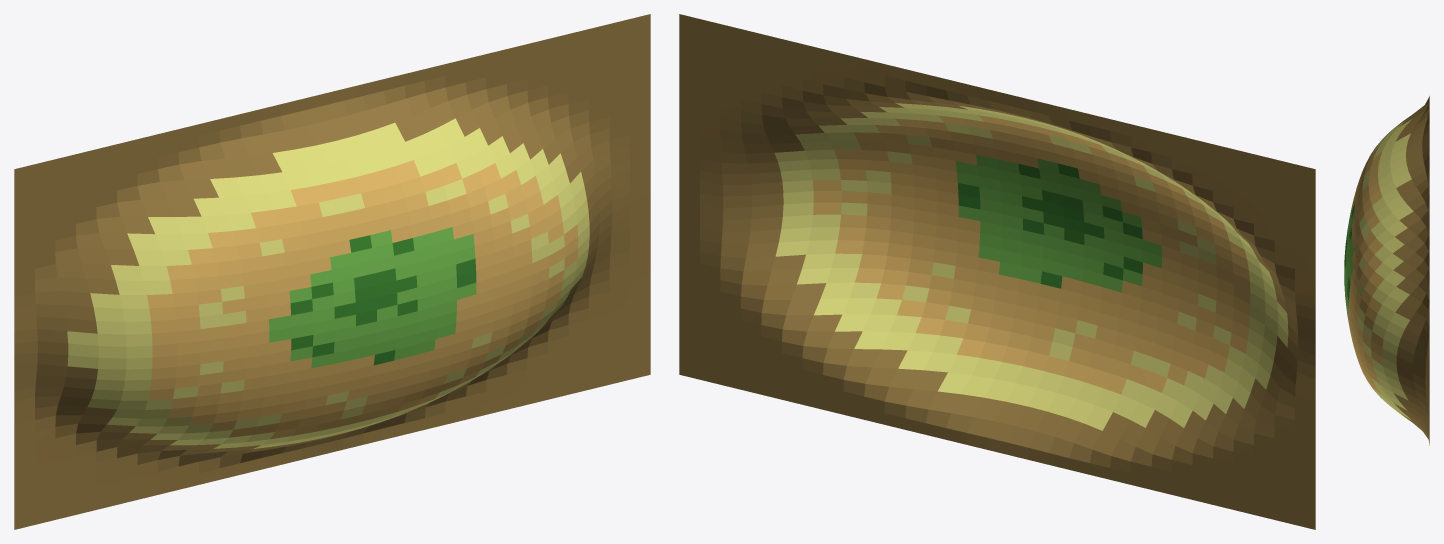
Rendered from isla_large.fbx.
3 views of the same model, side by side, from view 1: azimuth 30°, elevation 25°; view 2: azimuth 150°, elevation 25°; view 3: azimuth 270°, elevation 25° (orthographic). The views are drawn at different scales.
Parts seen in each view (by area): view 1: isla_large; view 2: isla_large; view 3: isla_large.
Part boxes in pixels (x1,y1,x2,y2): isla_large: (14, 14, 650, 529); isla_large: (679, 14, 1315, 529); isla_large: (1344, 96, 1429, 445).
Bounding box in the file's own units: 528 × 286 × 80.05.
